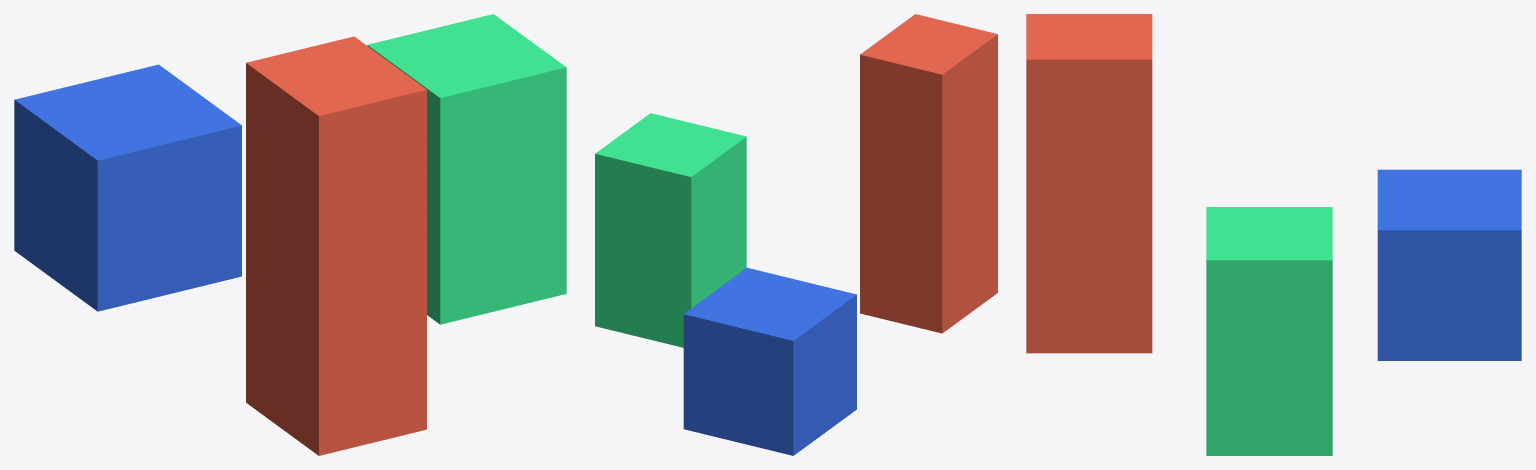
Rendered from orbit-calibration.gltf.
3 views of the same model, side by side, from view 1: azimuth 30°, elevation 25°; view 2: azimuth 150°, elevation 25°; view 3: azimuth 270°, elevation 25° (orthographic). The views are drawn at different scales.
Parts seen in each view (by area): view 1: CalibrationHood, CalibrationBattery, CalibrationEngine; view 2: CalibrationHood, CalibrationEngine, CalibrationBattery; view 3: CalibrationHood, CalibrationEngine, CalibrationBattery.
Part boxes in pixels (left/top/right/bottom): CalibrationHood: left=246, top=36, right=426, bottom=455; CalibrationBattery: left=14, top=64, right=241, bottom=311; CalibrationEngine: left=367, top=14, right=566, bottom=324; CalibrationHood: left=860, top=14, right=997, bottom=333; CalibrationEngine: left=595, top=113, right=746, bottom=347; CalibrationBattery: left=683, top=267, right=856, bottom=455; CalibrationHood: left=1026, top=14, right=1152, bottom=353; CalibrationEngine: left=1206, top=207, right=1332, bottom=455; CalibrationBattery: left=1377, top=169, right=1521, bottom=360.
Size of the model in its own units: 2.05 by 1.8 by 2.75.
